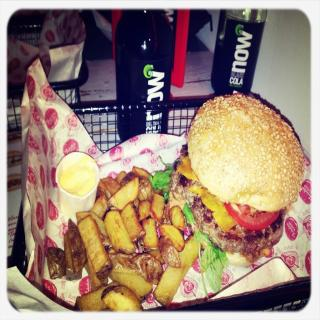French fries: (62, 161, 201, 315)
Hamburger: (170, 91, 305, 266)
